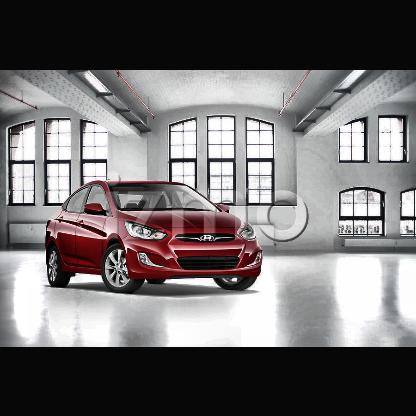Hyundai Accent Sedan 2012: (44, 178, 264, 294)
